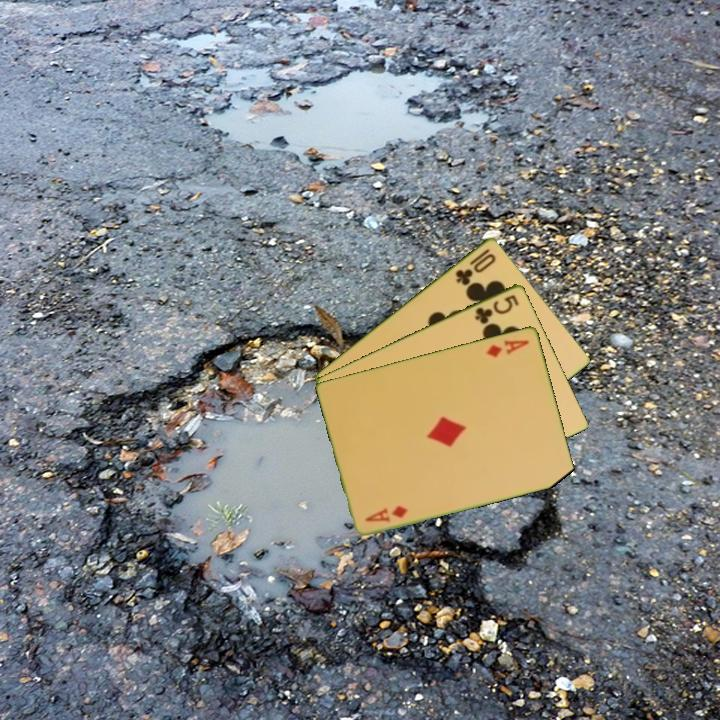10c: (452, 245, 499, 288)
5c: (471, 291, 522, 327)
Ad: (361, 501, 411, 525), (483, 336, 532, 360)
